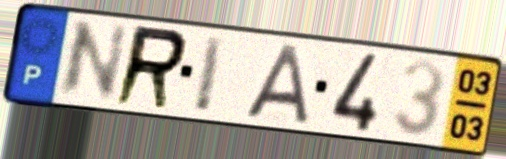3: (390, 56, 448, 141)
4: (328, 50, 383, 134)
A: (242, 42, 311, 126)
I: (190, 32, 228, 115)
N: (54, 19, 132, 101)
R: (110, 22, 192, 113)
